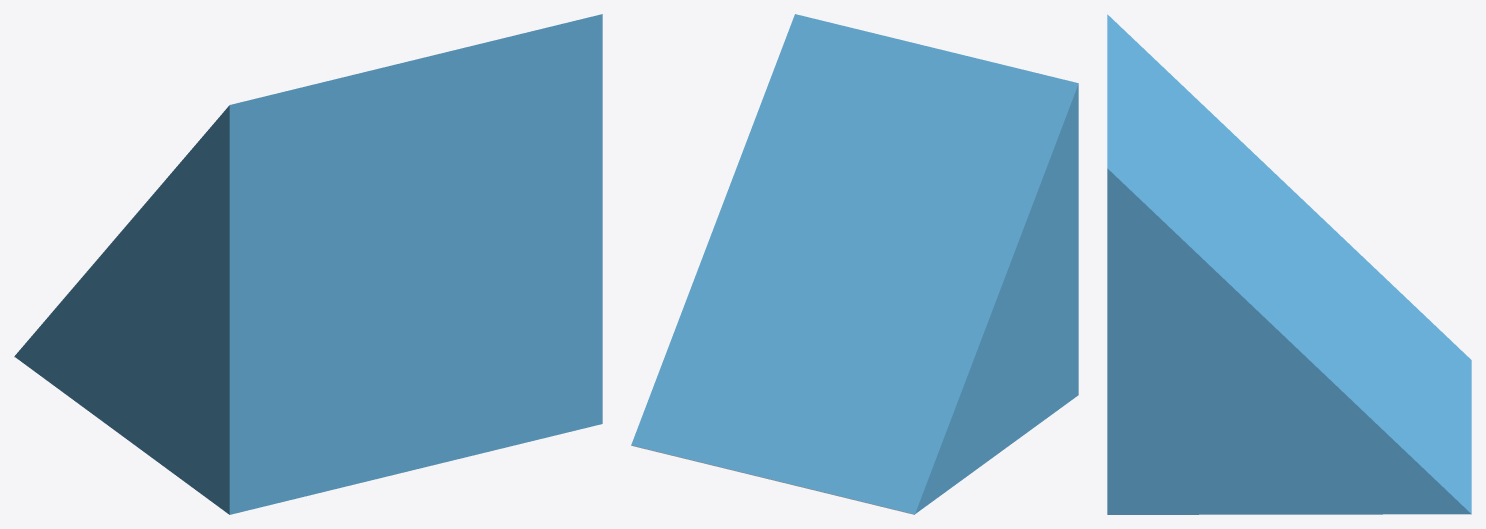
File: piscina_prainha_rampa.glb
3 renders of one model, left to right at view 1: azimuth 30°, elevation 25°; view 2: azimuth 150°, elevation 25°; view 3: azimuth 270°, elevation 25°, orthographic. The views are drawn at different scales.
Parts seen in each view (by area): view 1: piscina_prainha_rampa; view 2: piscina_prainha_rampa; view 3: piscina_prainha_rampa.
Part boxes in pixels (box(x1,y1,x2,y2)): piscina_prainha_rampa: box(14, 14, 602, 514); piscina_prainha_rampa: box(631, 14, 1078, 514); piscina_prainha_rampa: box(1107, 14, 1471, 514).
Size of the model in its own units: 1 by 1.05 by 1.
Materials: 2 (1 with a texture image).
